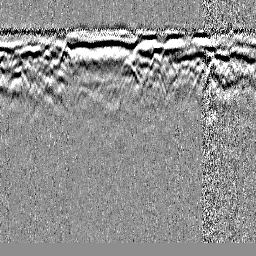cavity: (119, 56, 140, 84)
